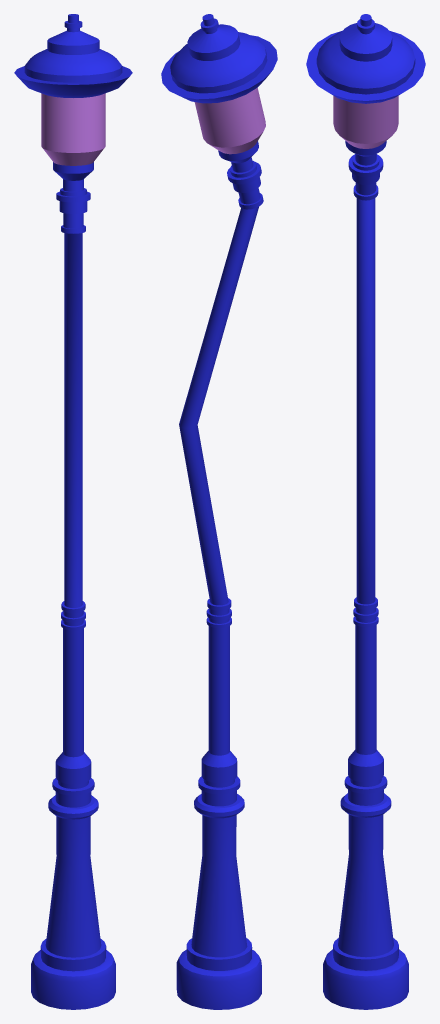
The model's file is StreetLamp_02.fbx.
The picture shows the model from 3 angles, left to right: view 1: azimuth 90°, elevation 25°; view 2: azimuth 210°, elevation 25°; view 3: azimuth 270°, elevation 25°; orthographic projection.
Parts seen in each view (by area): view 1: lamp_02.003; view 2: lamp_02.003; view 3: lamp_02.003.
Part boxes in pixels (bbox=[...]): lamp_02.003: bbox=[14, 14, 132, 1009]; lamp_02.003: bbox=[161, 14, 277, 1009]; lamp_02.003: bbox=[306, 14, 425, 1009].
Size of the model in its own units: 44.76 by 416 by 45.95.
